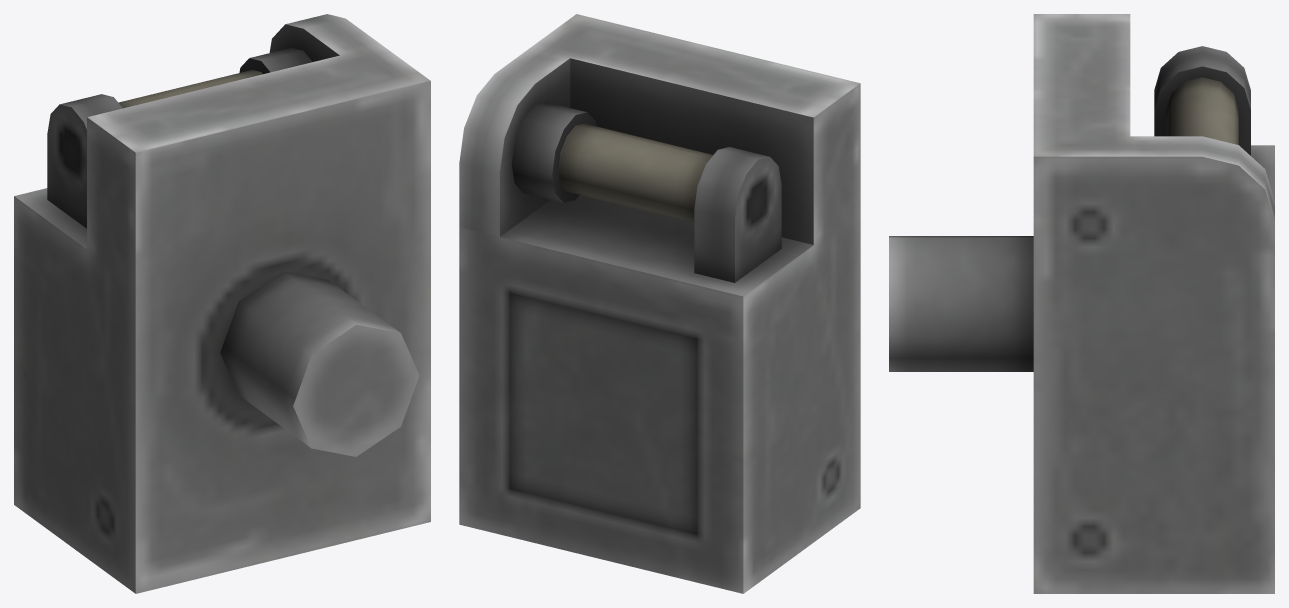
The model's file is 1mv_sensor_barometer_srf_1.obj.
3 views of the same model, side by side, from view 1: azimuth 30°, elevation 25°; view 2: azimuth 150°, elevation 25°; view 3: azimuth 270°, elevation 25° (orthographic). The views are drawn at different scales.
Parts seen in each view (by area): view 1: mesh1; view 2: mesh1; view 3: mesh1.
Boxes of the visible parts, x1,y1,x2,y2 form: mesh1: [14, 14, 430, 593]; mesh1: [459, 14, 860, 593]; mesh1: [889, 14, 1274, 593].
Bounding box in the file's own units: 0.175 × 0.25 × 0.2.
1 material, 1 textured.
